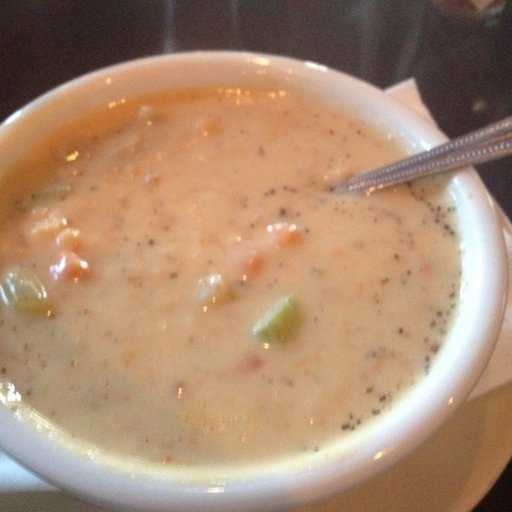soup: (1, 74, 440, 471)
